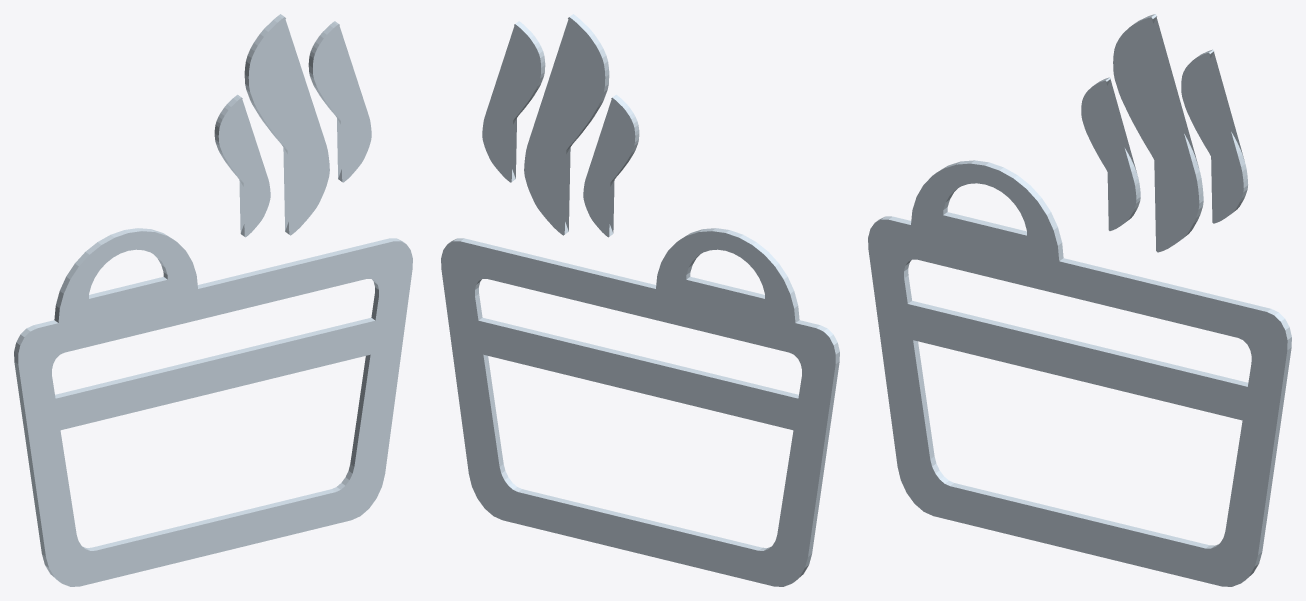
File: Food_3D_Icon_01.fbx
3 views of the same model, side by side, from view 1: azimuth 30°, elevation 25°; view 2: azimuth 150°, elevation 25°; view 3: azimuth 330°, elevation 25° (orthographic). The views are drawn at different scales.
Visible parts, largest first — view 1: Food_3D_Icon_01; view 2: Food_3D_Icon_01; view 3: Food_3D_Icon_01.
Boxes of the visible parts, left/top/right/bottom form: Food_3D_Icon_01: left=14, top=14, right=412, bottom=586; Food_3D_Icon_01: left=441, top=14, right=839, bottom=586; Food_3D_Icon_01: left=868, top=14, right=1291, bottom=586.
Bounding box in the file's own units: 111 × 140 × 2.
